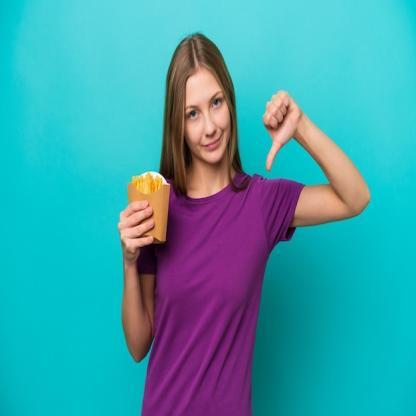thumb_down: (262, 88, 303, 169)
